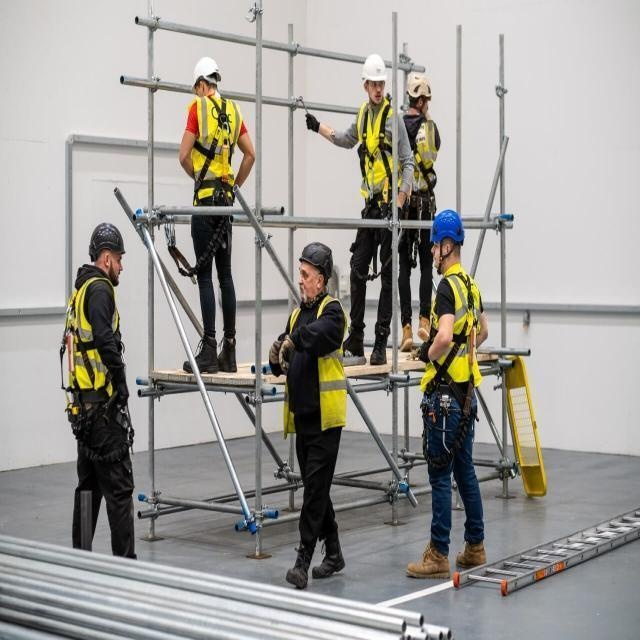Arnes_seguridad: (428, 270, 479, 421), (65, 279, 118, 415), (355, 97, 395, 206), (192, 96, 232, 196), (407, 117, 439, 199)
